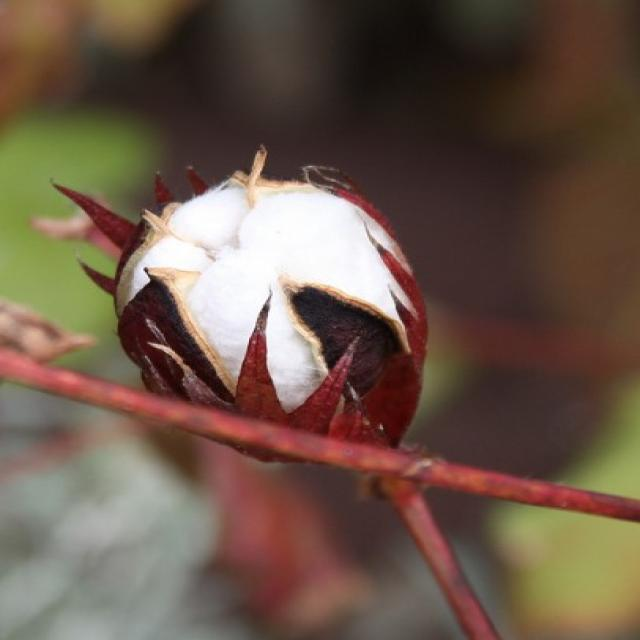Split Cotton Boll: (122, 170, 430, 482)
